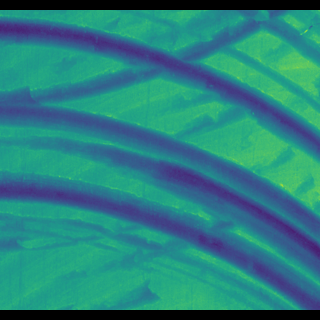Loch: (0, 105, 320, 302), (0, 21, 318, 164), (113, 20, 320, 123)
